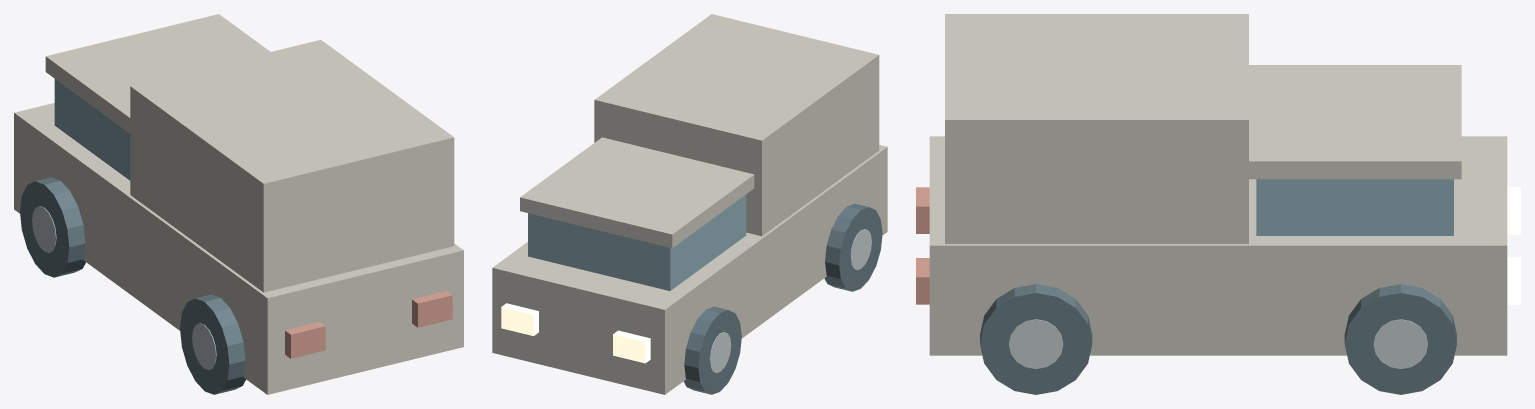
File: remaster_vehicle_0.glb
The picture shows the model from 3 angles, left to right: view 1: azimuth 30°, elevation 25°; view 2: azimuth 150°, elevation 25°; view 3: azimuth 270°, elevation 25°; orthographic projection. The views are drawn at different scales.
Parts seen in each view (by area): view 1: remaster_vehicle_0 cream, remaster_vehicle_0 dark, remaster_vehicle_0 glass, remaster_vehicle_0 red, remaster_vehicle_0 metal; view 2: remaster_vehicle_0 cream, remaster_vehicle_0 glass, remaster_vehicle_0 dark, remaster_vehicle_0 warm, remaster_vehicle_0 metal; view 3: remaster_vehicle_0 cream, remaster_vehicle_0 dark, remaster_vehicle_0 glass, remaster_vehicle_0 metal, remaster_vehicle_0 warm, remaster_vehicle_0 red.
Boxes of the visible parts, box(x1,y1,x2,y2) form: remaster_vehicle_0 cream: box(14, 14, 463, 394); remaster_vehicle_0 dark: box(20, 177, 245, 394); remaster_vehicle_0 glass: box(54, 79, 130, 180); remaster_vehicle_0 red: box(285, 291, 452, 358); remaster_vehicle_0 metal: box(32, 206, 216, 370); remaster_vehicle_0 cream: box(492, 14, 887, 394); remaster_vehicle_0 glass: box(528, 194, 746, 290); remaster_vehicle_0 dark: box(683, 203, 882, 394); remaster_vehicle_0 warm: box(501, 303, 650, 363); remaster_vehicle_0 metal: box(709, 229, 871, 373); remaster_vehicle_0 cream: box(929, 14, 1507, 355); remaster_vehicle_0 dark: box(980, 284, 1456, 394); remaster_vehicle_0 glass: box(1256, 179, 1453, 235); remaster_vehicle_0 metal: box(1008, 319, 1428, 368); remaster_vehicle_0 warm: box(1507, 186, 1520, 305); remaster_vehicle_0 red: box(916, 187, 929, 304).
Size of the model in its own units: 1.99 by 1.92 by 3.98.
